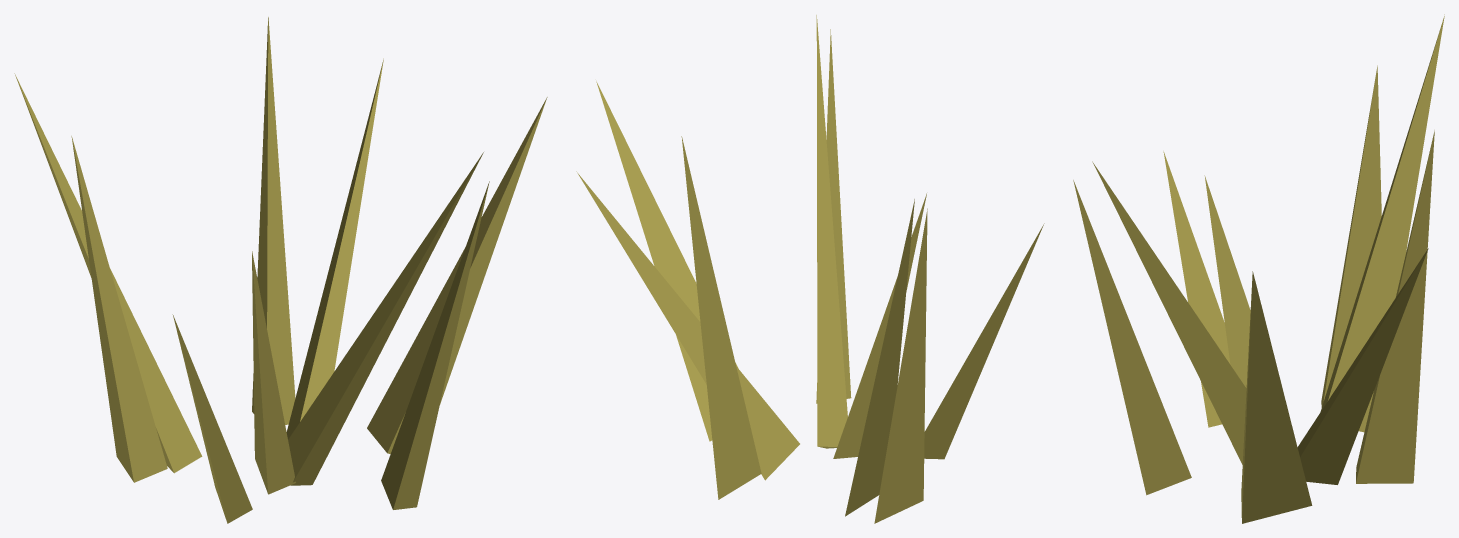
Rendered from HS_LP_Grass_Dry_02.fbx.
The picture shows the model from 3 angles, left to right: view 1: azimuth 30°, elevation 25°; view 2: azimuth 150°, elevation 25°; view 3: azimuth 270°, elevation 25°; orthographic projection. The views are drawn at different scales.
Visible parts, largest first — view 1: HS_LP_Grass_Dry_02; view 2: HS_LP_Grass_Dry_02; view 3: HS_LP_Grass_Dry_02.
Part boxes in pixels (x1=…): HS_LP_Grass_Dry_02: x1=14, y1=17, x2=547, y2=523; HS_LP_Grass_Dry_02: x1=576, y1=15, x2=1044, y2=523; HS_LP_Grass_Dry_02: x1=1073, y1=14, x2=1444, y2=523.
Bounding box in the file's own units: 32.45 × 27.85 × 25.15.
